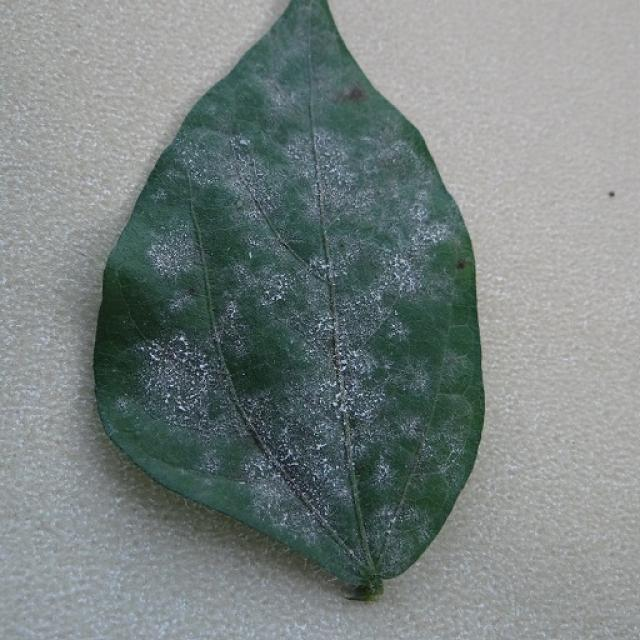Blackgram: (95, 0, 484, 598)
Powdery_Mildew: (139, 165, 424, 492), (237, 101, 410, 299), (128, 194, 240, 397), (256, 281, 376, 455), (175, 140, 268, 254), (142, 323, 234, 428), (136, 321, 223, 429), (357, 214, 440, 315), (302, 139, 365, 219), (362, 137, 428, 199), (334, 346, 386, 422), (146, 225, 205, 285), (407, 212, 451, 256), (256, 266, 301, 309), (241, 222, 282, 264), (386, 257, 426, 297), (369, 454, 400, 496), (375, 502, 406, 536), (313, 307, 341, 342), (382, 314, 410, 343), (310, 255, 334, 279), (389, 255, 409, 273), (335, 394, 350, 417), (251, 457, 269, 476), (163, 372, 180, 392), (148, 345, 165, 364), (224, 303, 241, 321), (149, 187, 168, 203), (376, 461, 392, 479), (296, 486, 311, 505), (116, 398, 132, 413), (275, 512, 290, 528), (356, 405, 372, 419), (393, 270, 405, 283), (382, 526, 393, 539), (382, 360, 394, 371), (319, 260, 330, 271), (238, 137, 250, 147), (177, 335, 188, 345), (285, 448, 295, 459), (274, 279, 284, 290), (316, 441, 327, 450), (329, 378, 338, 388), (293, 151, 302, 160), (290, 459, 300, 467), (389, 516, 397, 526), (340, 362, 347, 373), (318, 321, 326, 330), (165, 394, 173, 403), (321, 457, 329, 466), (331, 400, 339, 408), (199, 362, 207, 369), (275, 294, 283, 301), (324, 151, 332, 158), (312, 474, 318, 482), (248, 251, 253, 260), (393, 309, 399, 316), (265, 290, 270, 297)
